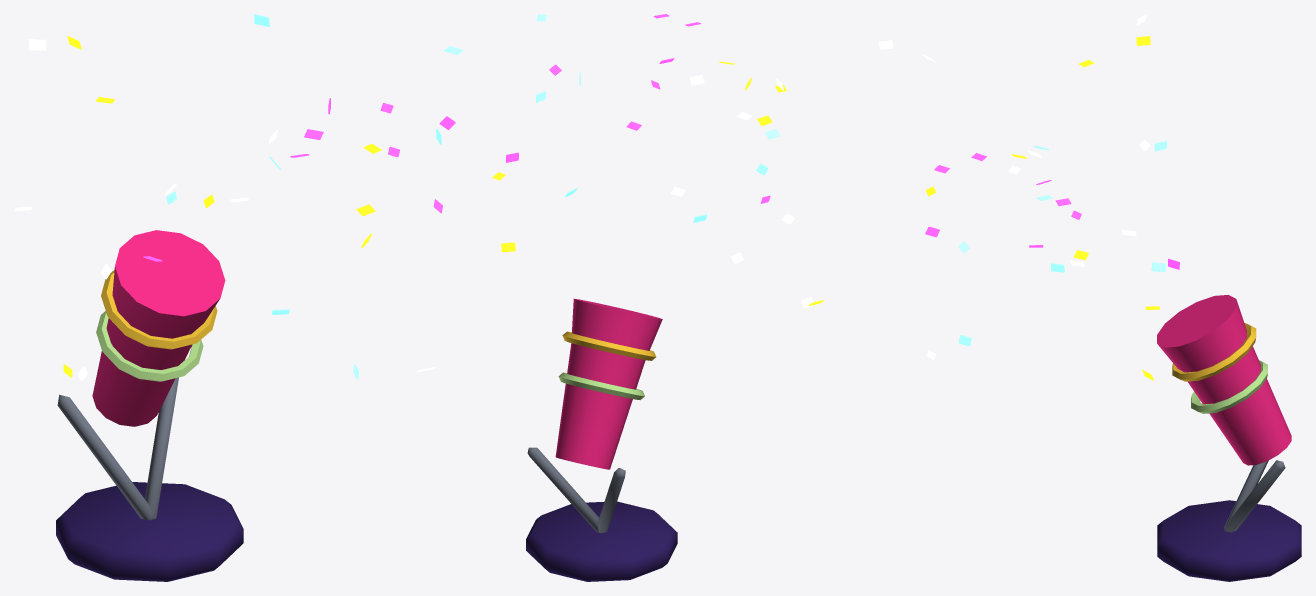
File: W6_ConfettiCannon.fbx
3 renders of one model, left to right at view 1: azimuth 30°, elevation 25°; view 2: azimuth 150°, elevation 25°; view 3: azimuth 270°, elevation 25°, orthographic. The views are drawn at different scales.
Parts seen in each view (by area): view 1: W6_ConfettiCannon; view 2: W6_ConfettiCannon; view 3: W6_ConfettiCannon.
Boxes of the visible parts, x1,y1,x2,y2 form: W6_ConfettiCannon: [14, 14, 463, 581]; W6_ConfettiCannon: [492, 14, 893, 581]; W6_ConfettiCannon: [922, 14, 1301, 581].
Bounding box in the file's own units: 2.82 × 4.11 × 3.
